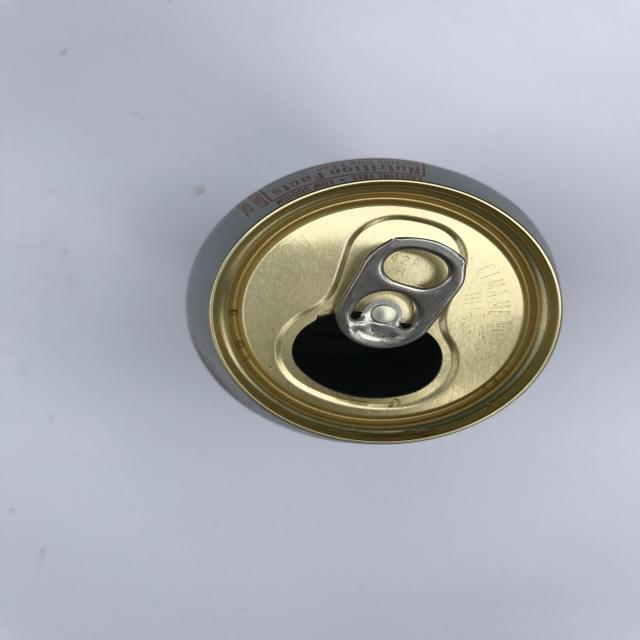metal: (185, 156, 566, 445)
